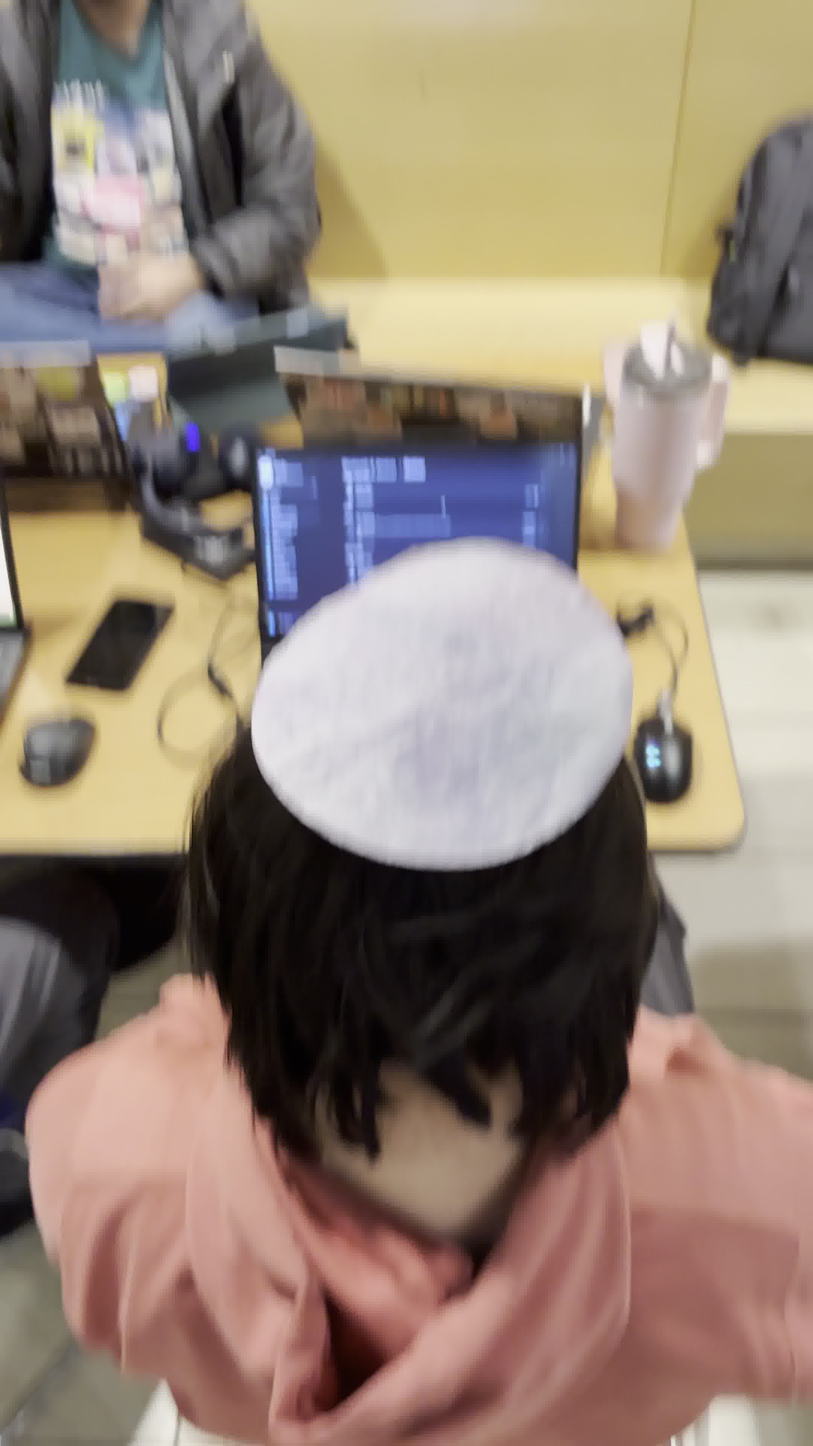Target: (250, 532, 632, 871)
